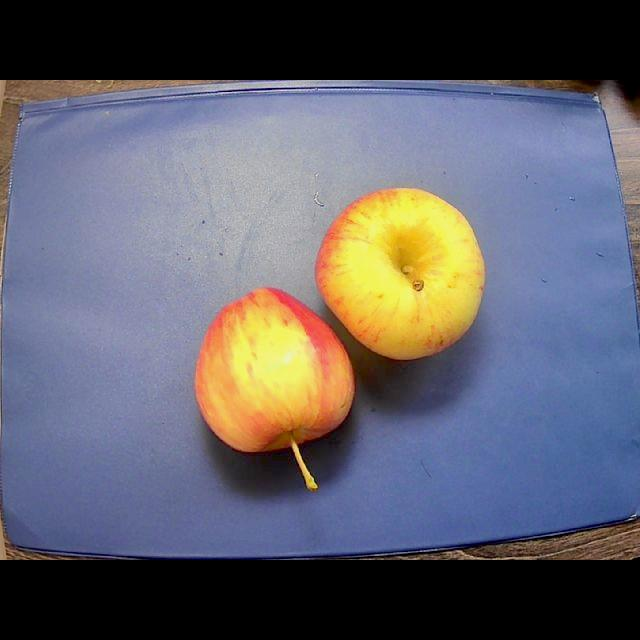manzana: (196, 288, 354, 489), (316, 188, 484, 359)
